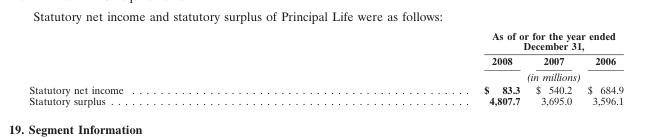table: (28, 28, 622, 107)
table column: (28, 28, 303, 107), (303, 28, 527, 107), (527, 28, 578, 107), (578, 28, 622, 107)
table column header: (28, 28, 622, 82)
table row: (28, 28, 622, 52), (28, 52, 622, 68), (28, 68, 622, 82), (28, 94, 622, 107), (28, 82, 622, 94)
table spanning cell: (303, 28, 622, 52), (303, 68, 622, 82)
